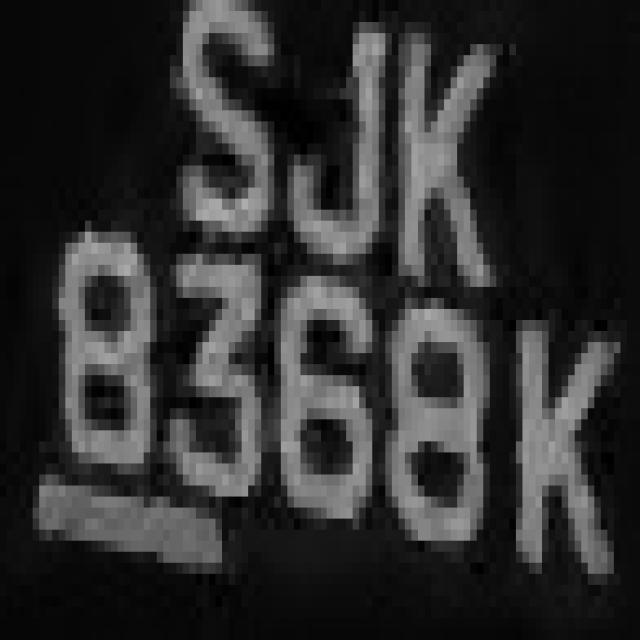3: (150, 209, 268, 552)
6: (268, 232, 379, 530)
8: (46, 176, 170, 530), (366, 254, 496, 574)
J: (248, 11, 385, 298)
K: (483, 254, 608, 629), (372, 11, 510, 320)
S: (163, 22, 268, 276)
